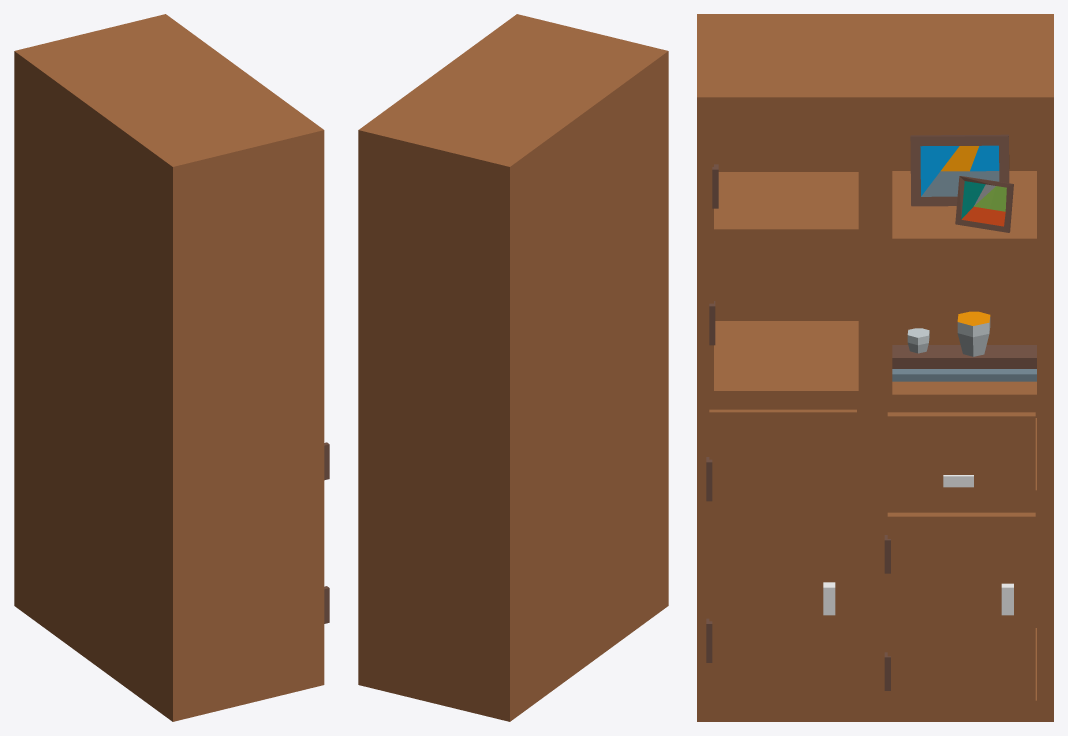
The model's file is cabinet.glb.
3 views of the same model, side by side, from view 1: azimuth 30°, elevation 25°; view 2: azimuth 150°, elevation 25°; view 3: azimuth 270°, elevation 25° (orthographic). The views are drawn at different scales.
Visible parts, largest first — view 1: group235268298; view 2: group235268298; view 3: group235268298, group150326201, group2106815196, group1138091316, group313825983, group1623065853, group899311483, group1683396181, group2011782852.
Boxes of the visible parts, x1=… form: group235268298: x1=14, y1=14, x2=324, y2=721; group235268298: x1=358, y1=14, x2=668, y2=721; group235268298: x1=697, y1=14, x2=1053, y2=721; group150326201: x1=709, y1=409, x2=856, y2=713; group2106815196: x1=887, y1=512, x2=1035, y2=711; group1138091316: x1=887, y1=412, x2=1035, y2=494; group313825983: x1=910, y1=134, x2=1009, y2=206; group1623065853: x1=892, y1=345, x2=1036, y2=368; group899311483: x1=955, y1=176, x2=1013, y2=232; group1683396181: x1=892, y1=369, x2=1036, y2=381; group2011782852: x1=957, y1=311, x2=990, y2=356.
Bounding box in the file's own units: 0.35 × 1.12 × 0.58.
